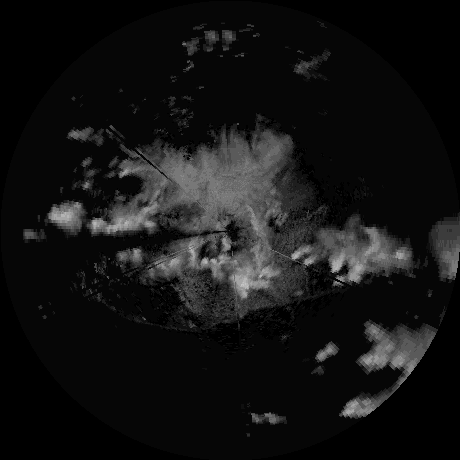frontgust: (86, 266, 217, 332)
